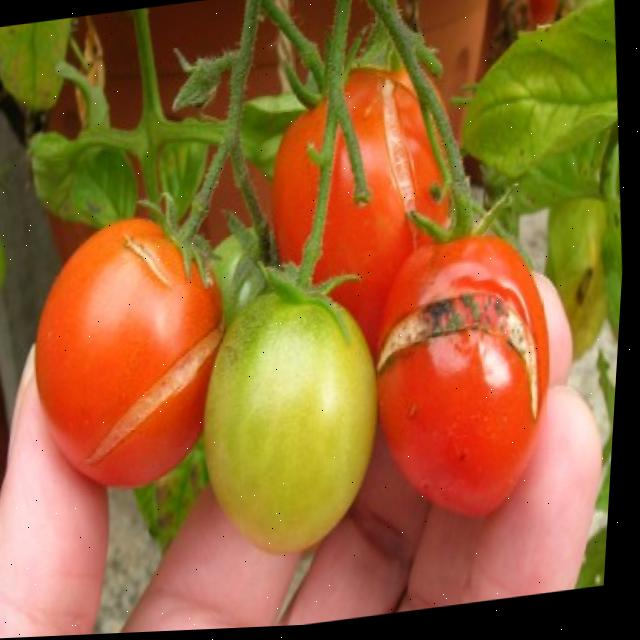damaged: (0, 190, 252, 517), (363, 204, 571, 537), (253, 36, 487, 308)
unripe: (179, 262, 413, 574)
